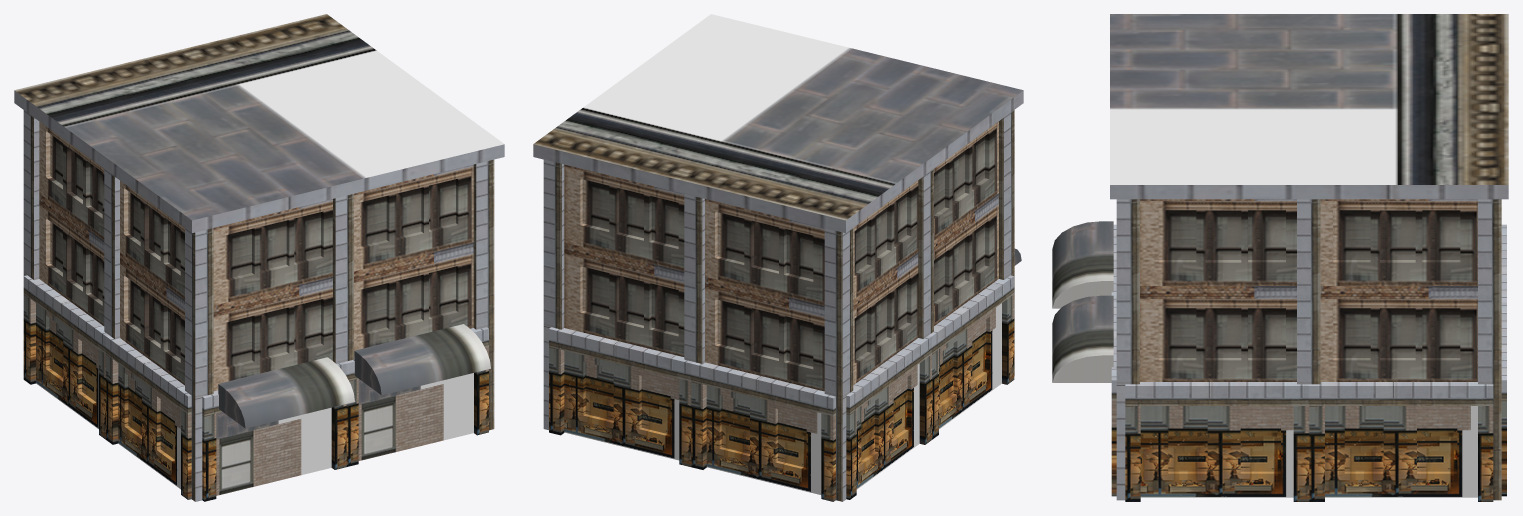
The model's file is building4.fbx.
3 views of the same model, side by side, from view 1: azimuth 30°, elevation 25°; view 2: azimuth 150°, elevation 25°; view 3: azimuth 270°, elevation 25° (orthographic). The views are drawn at different scales.
Parts seen in each view (by area): view 1: atlas.037; view 2: atlas.037; view 3: atlas.037.
Part boxes in pixels (box(x1,y1,x2,y2)): atlas.037: box(14, 14, 504, 501); atlas.037: box(533, 14, 1023, 501); atlas.037: box(1052, 14, 1508, 501).
Bounding box in the file's own units: 10.87 × 9.47 × 12.26.
